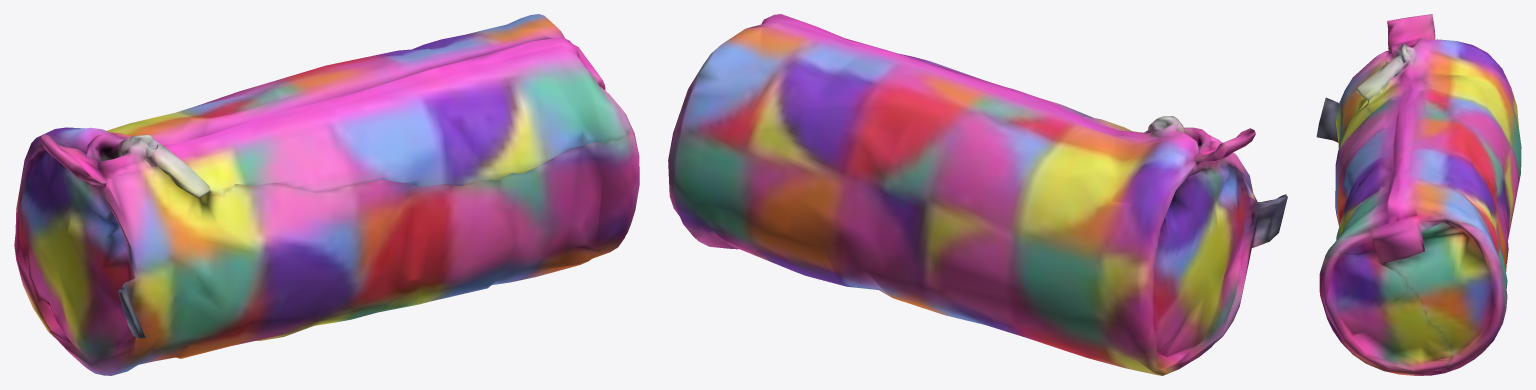
The model's file is Pinwheel_Pencil_Case-medium.glb.
3 views of the same model, side by side, from view 1: azimuth 30°, elevation 25°; view 2: azimuth 150°, elevation 25°; view 3: azimuth 270°, elevation 25° (orthographic). The views are drawn at different scales.
Parts seen in each view (by area): view 1: Pinwheel_Pencil_Case; view 2: Pinwheel_Pencil_Case; view 3: Pinwheel_Pencil_Case.
Boxes of the visible parts, x1=… form: Pinwheel_Pencil_Case: x1=14, y1=14, x2=639, y2=375; Pinwheel_Pencil_Case: x1=668, y1=14, x2=1287, y2=375; Pinwheel_Pencil_Case: x1=1316, y1=14, x2=1521, y2=375.
Size of the model in its own units: 0.2174 by 0.0901 by 0.0939.
1 material, 1 textured.
